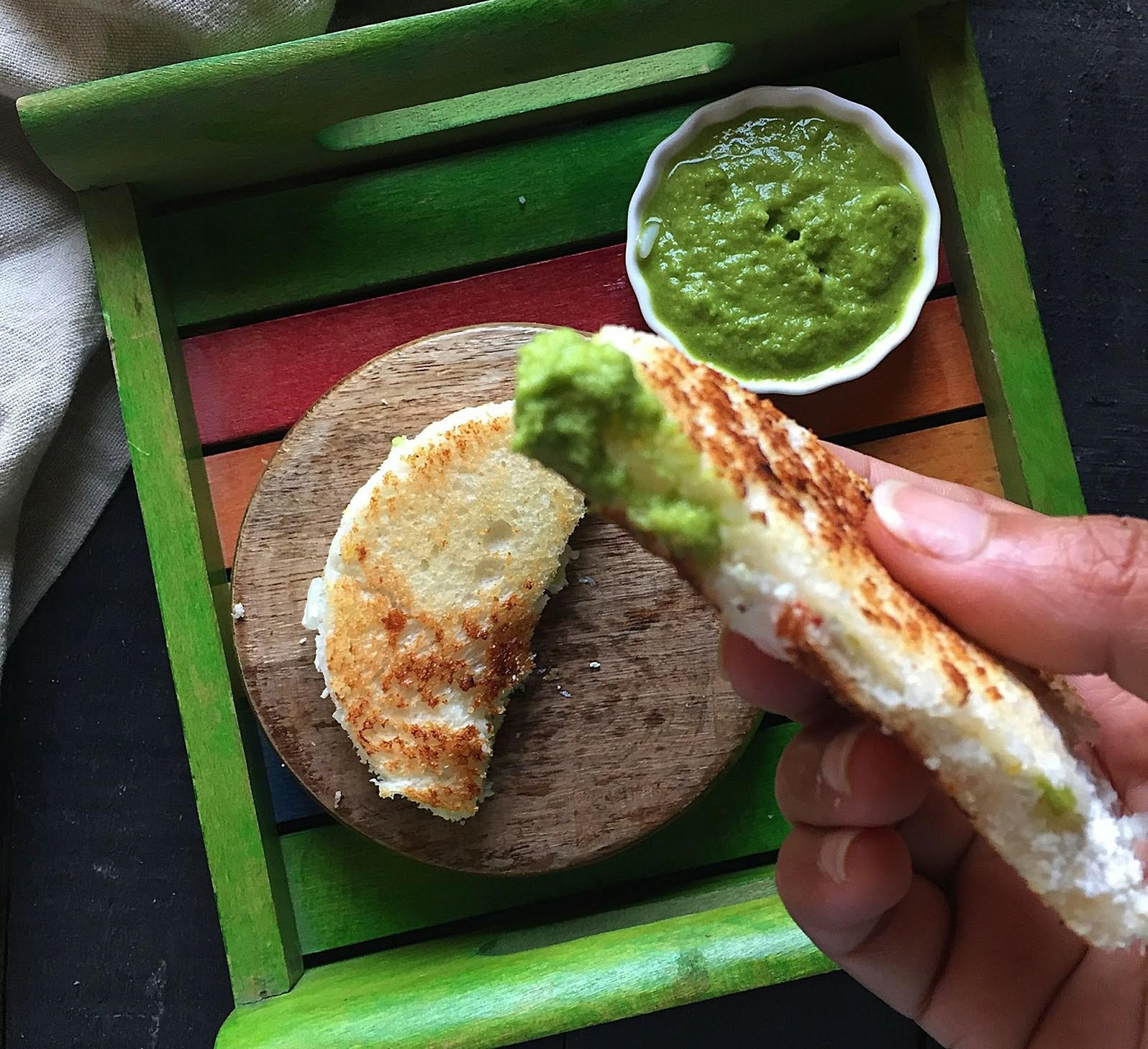GreenChutney: (639, 108, 918, 377)
